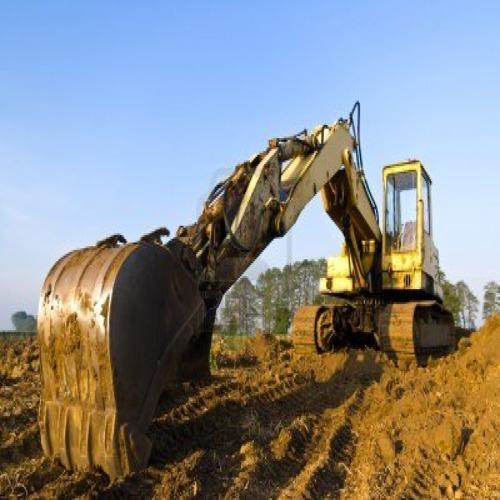con_eq: (37, 92, 470, 478)
